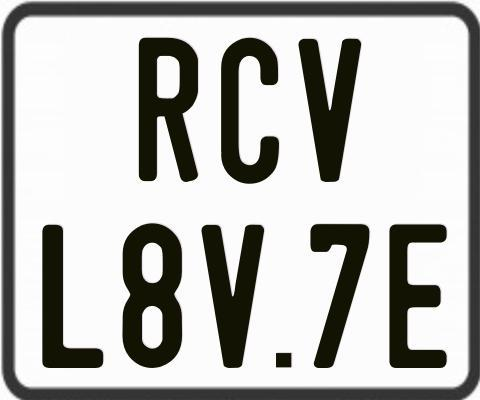7: (309, 222, 368, 369)
8: (120, 223, 185, 368)
C: (221, 36, 279, 186)
E: (388, 224, 452, 370)
L: (41, 225, 103, 368)
R: (136, 35, 196, 181)
V: (202, 224, 269, 373), (298, 39, 361, 185)
